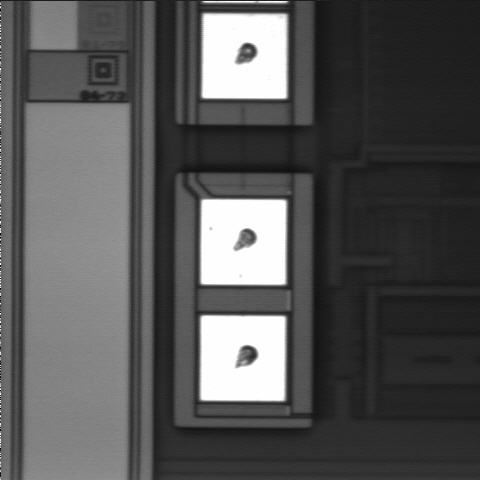pad: (202, 14, 287, 99), (201, 200, 286, 285), (201, 316, 285, 401)
